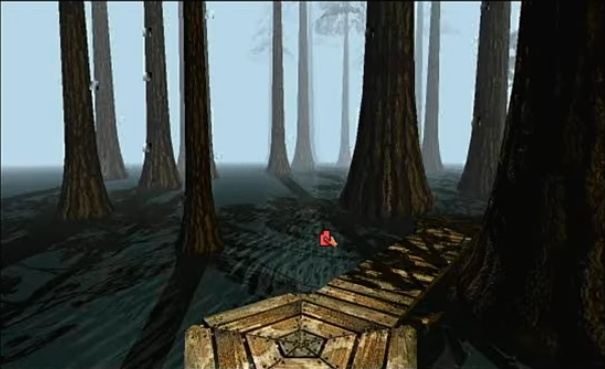Keep: (317, 227, 340, 249)
